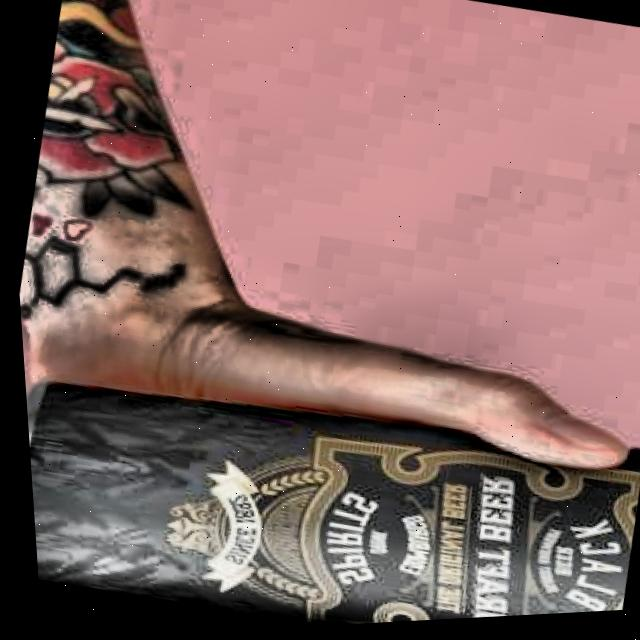metal: (17, 308, 640, 640)
